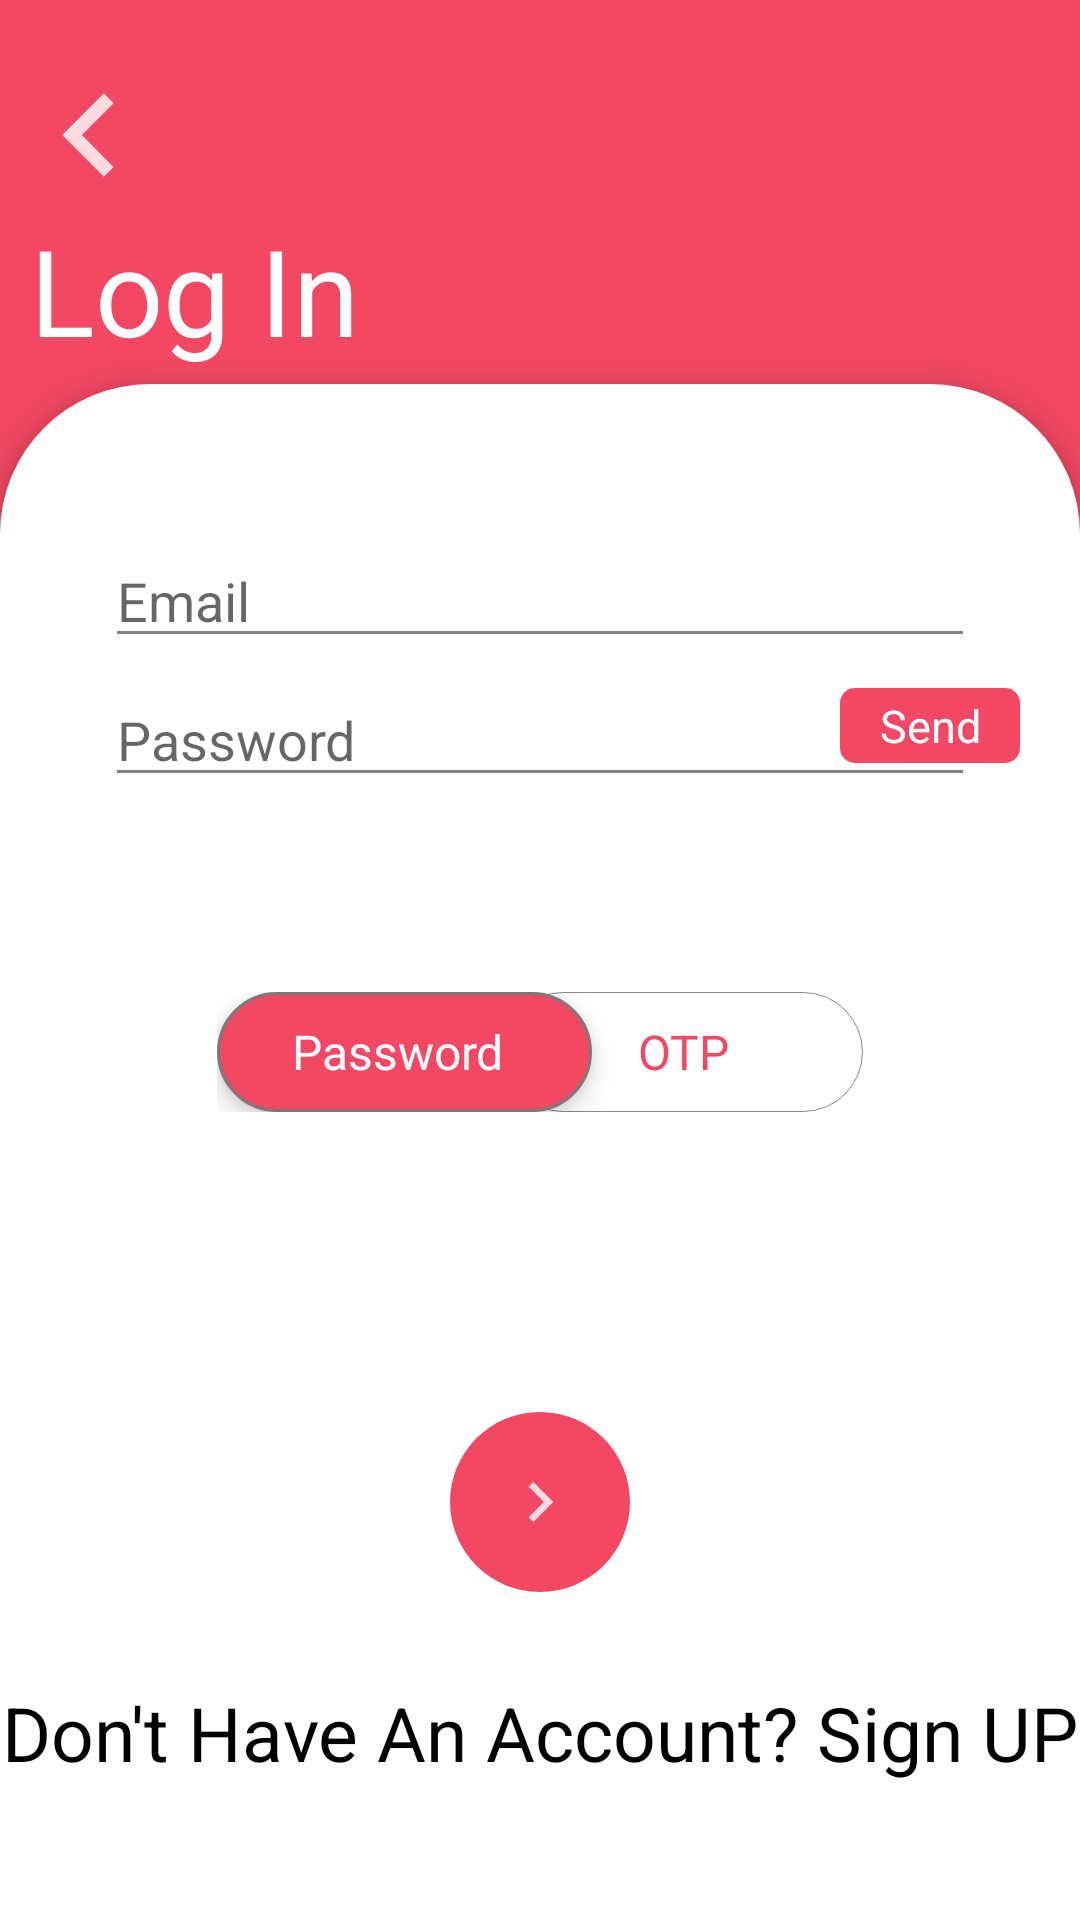

Icons on this 1080px×1920px Android screen, each with the point to tap as (x=x, y=y):
back arrow: (x=88, y=135)
btnsubmit: (x=540, y=1502)
